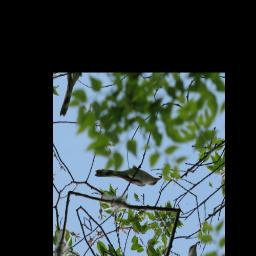Cuckoo: (93, 137, 163, 216)
